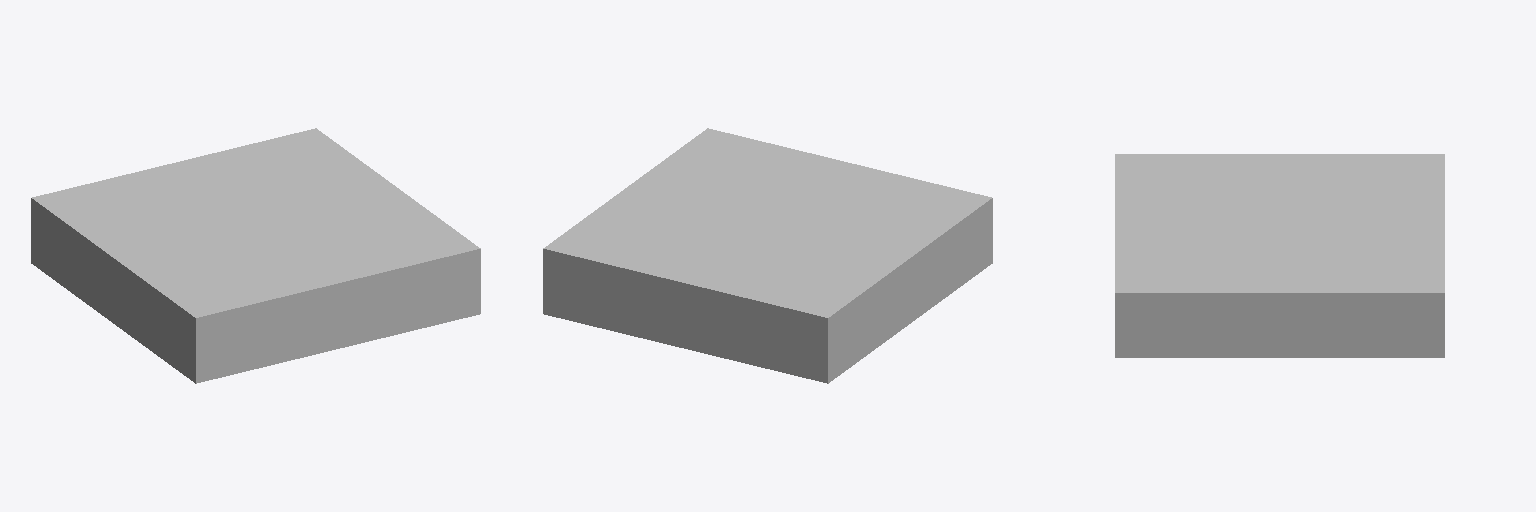
The model's file is Map.obj.
3 views of the same model, side by side, from view 1: azimuth 30°, elevation 25°; view 2: azimuth 150°, elevation 25°; view 3: azimuth 270°, elevation 25° (orthographic).
Visible parts, largest first — view 1: Map; view 2: Map; view 3: Map.
Boxes of the visible parts, x1,y1,x2,y2 form: Map: [31, 128, 480, 383]; Map: [543, 128, 992, 383]; Map: [1115, 154, 1444, 357].
Bounding box in the file's own units: 50 × 11 × 50.